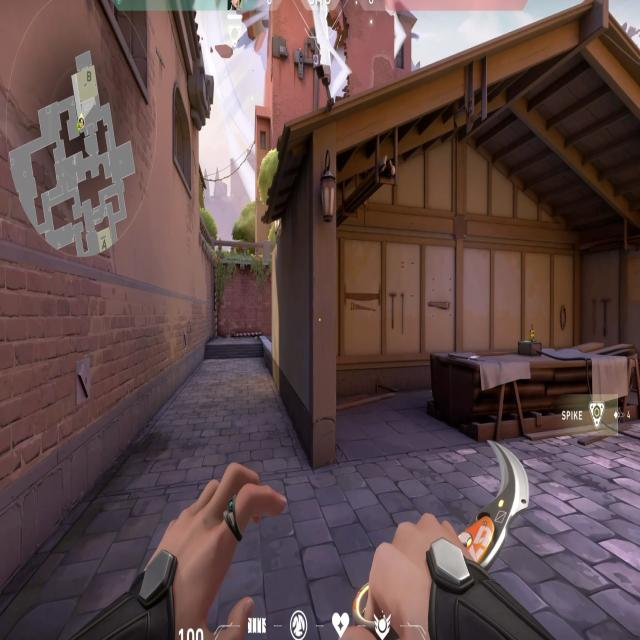B_Garage_Left: (305, 158, 429, 458)
B_Garage_Right: (532, 234, 640, 426)
Throwables: (164, 75, 197, 199)
